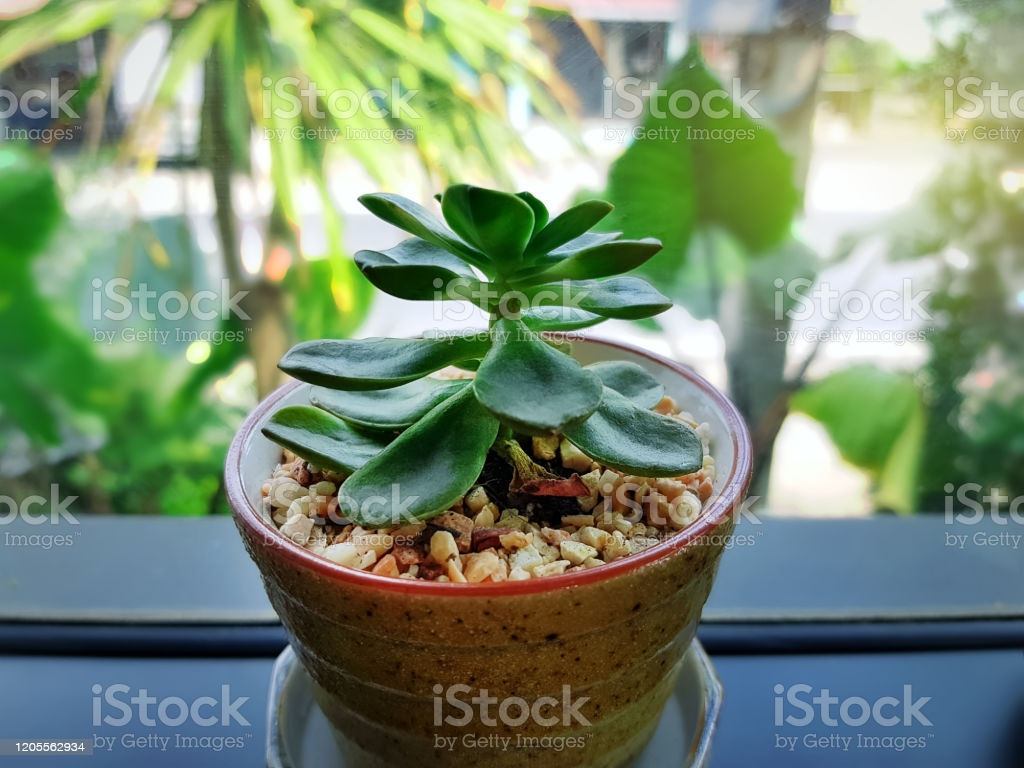tanaman: (220, 173, 760, 739)
